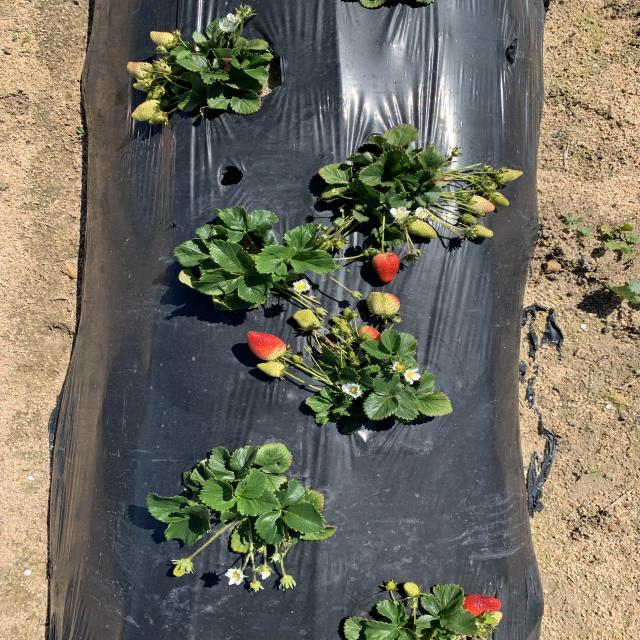unripe: (372, 250, 402, 286), (249, 332, 286, 359), (460, 594, 502, 616)
